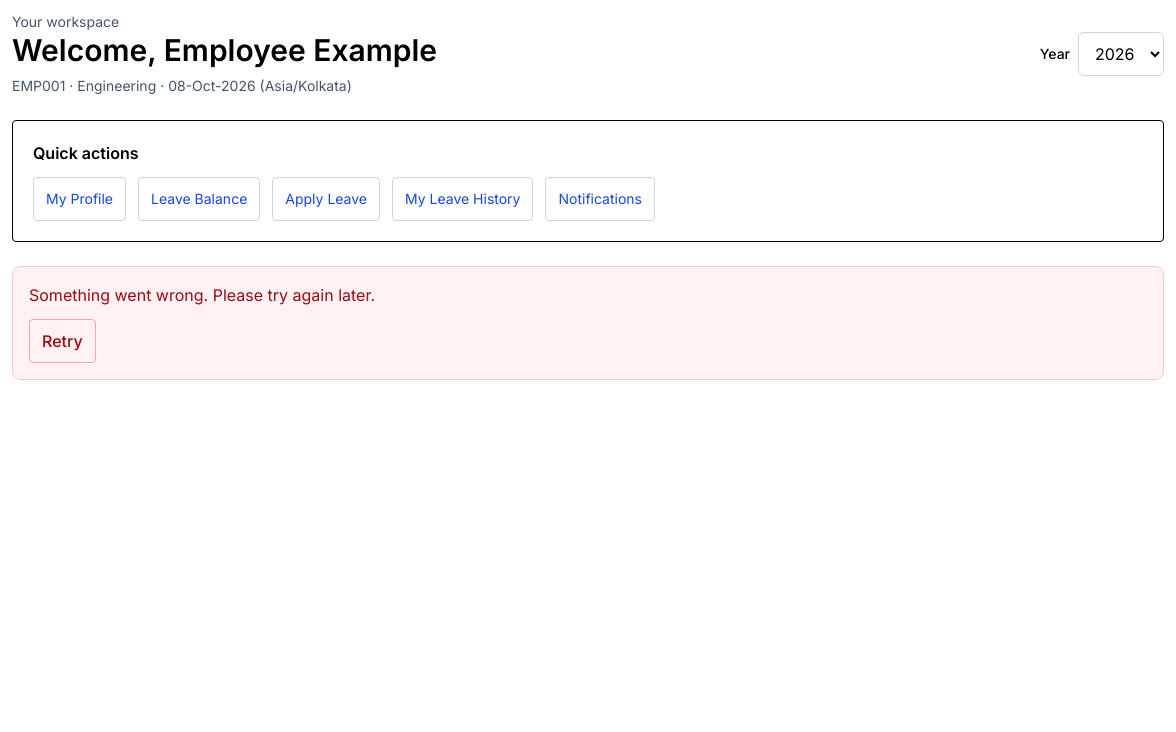
Test: Phase 4 employee screens › retries dashboard errors
expect the message shows "Something went wrong": met, box [29,285,375,305]
Step 1. Click the button "Retry" → (62, 341), box [29,319,96,363]
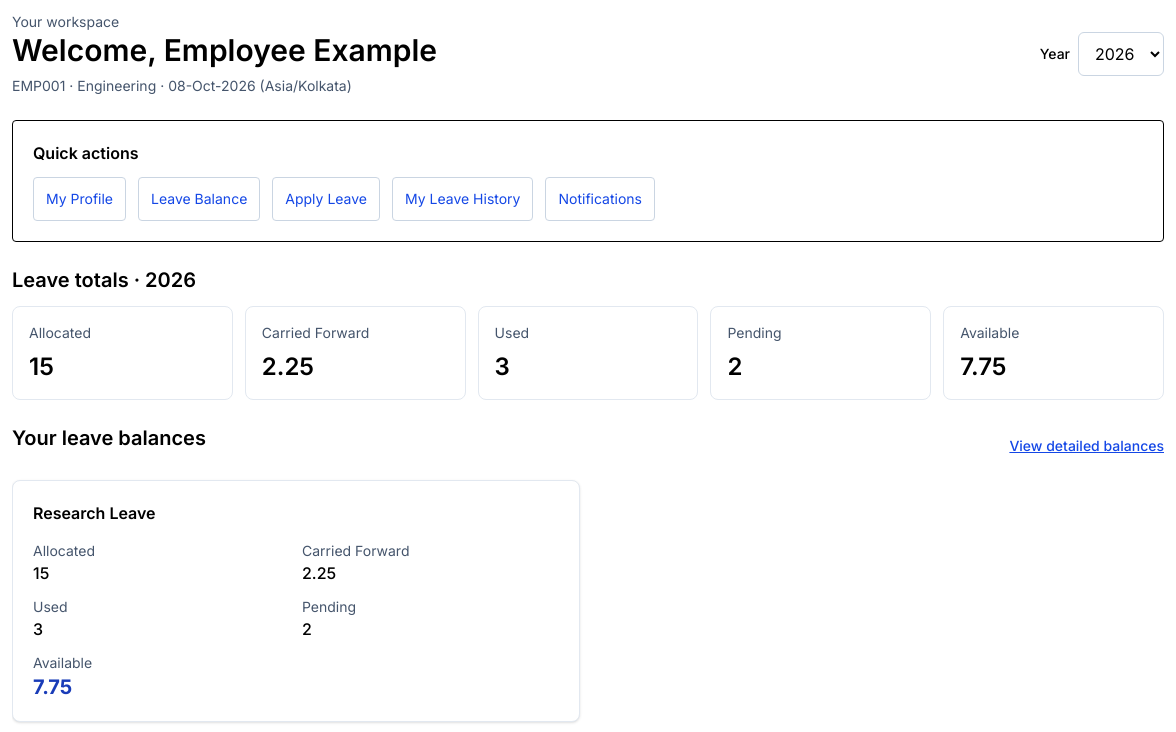
expect the heading "Research Leave" is shown: met, box [33,503,156,523]
